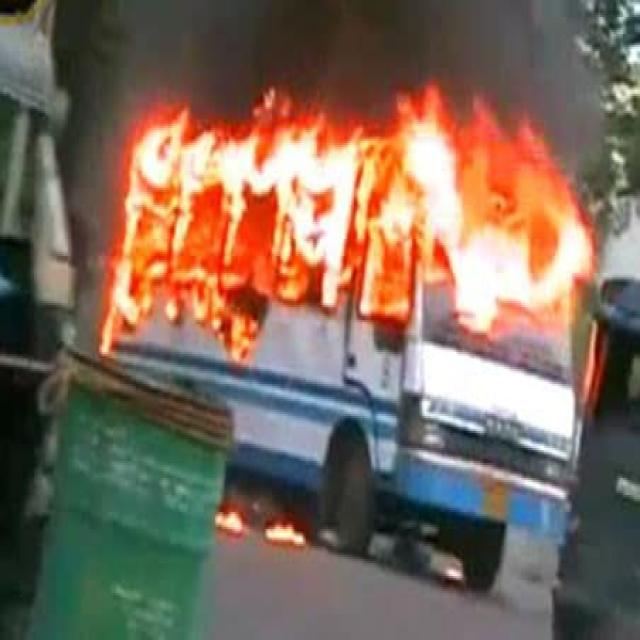accident: (100, 83, 596, 587)
